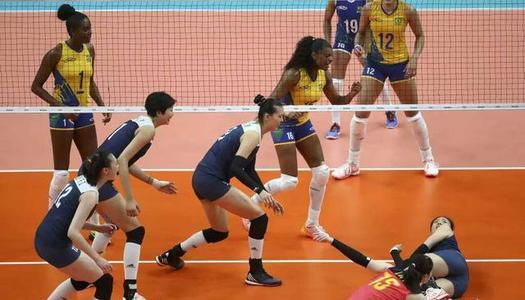bending: (159, 91, 289, 288), (329, 1, 443, 181), (87, 83, 177, 300), (251, 32, 339, 243), (34, 144, 117, 300)
down: (298, 205, 490, 298)
up: (32, 1, 99, 203), (306, 1, 389, 138)
